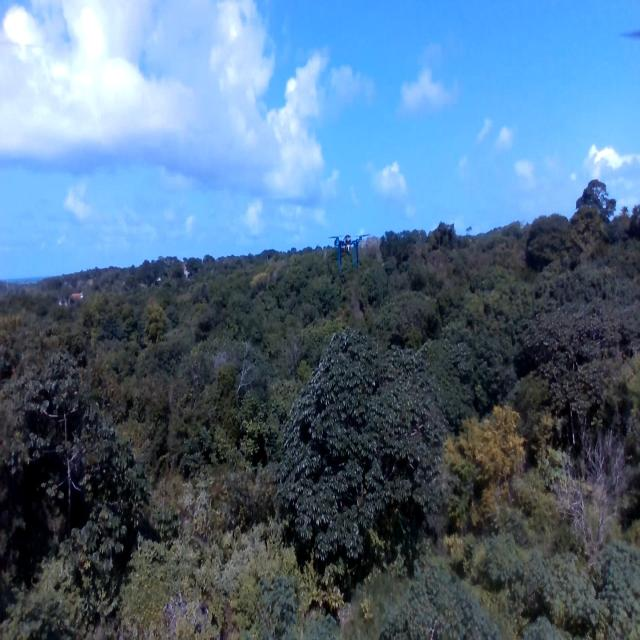-uav-: (322, 224, 376, 279)
